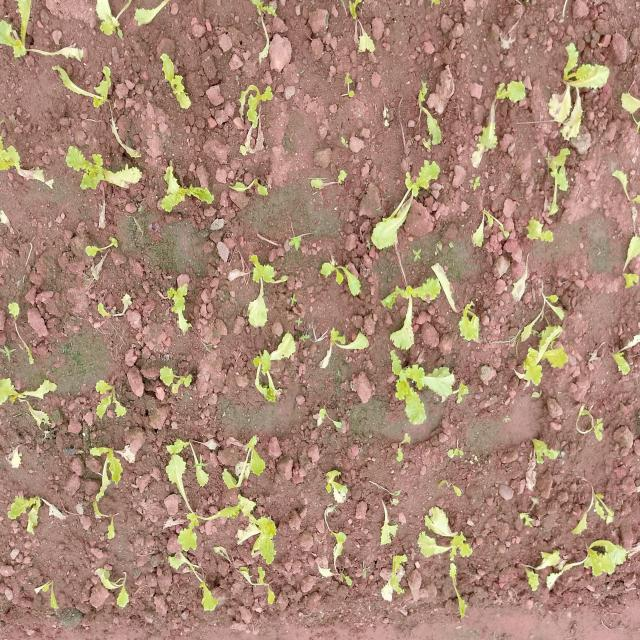Lettuce: (165, 462, 249, 556), (544, 38, 617, 134), (510, 315, 583, 392), (389, 266, 446, 356), (390, 356, 458, 429), (58, 148, 151, 196), (416, 505, 482, 567), (52, 54, 125, 110), (85, 430, 140, 504), (163, 554, 224, 620), (313, 247, 371, 302), (256, 332, 299, 405), (238, 256, 281, 328), (0, 367, 61, 416), (316, 326, 377, 374), (395, 156, 447, 212), (82, 226, 132, 282), (89, 562, 146, 611), (579, 531, 634, 579), (236, 512, 286, 564), (470, 104, 515, 161), (222, 433, 271, 485), (616, 50, 640, 155), (156, 55, 198, 114), (541, 144, 577, 212), (157, 279, 199, 337), (230, 77, 277, 128), (157, 170, 218, 209), (5, 486, 58, 530), (87, 373, 133, 423), (520, 544, 565, 595), (411, 81, 442, 153), (317, 461, 357, 514), (378, 550, 415, 604), (612, 231, 640, 300), (517, 210, 563, 251), (158, 352, 200, 396), (225, 168, 277, 203), (0, 107, 19, 183), (34, 567, 70, 607), (491, 76, 531, 108), (376, 513, 404, 548), (158, 262, 164, 270)
